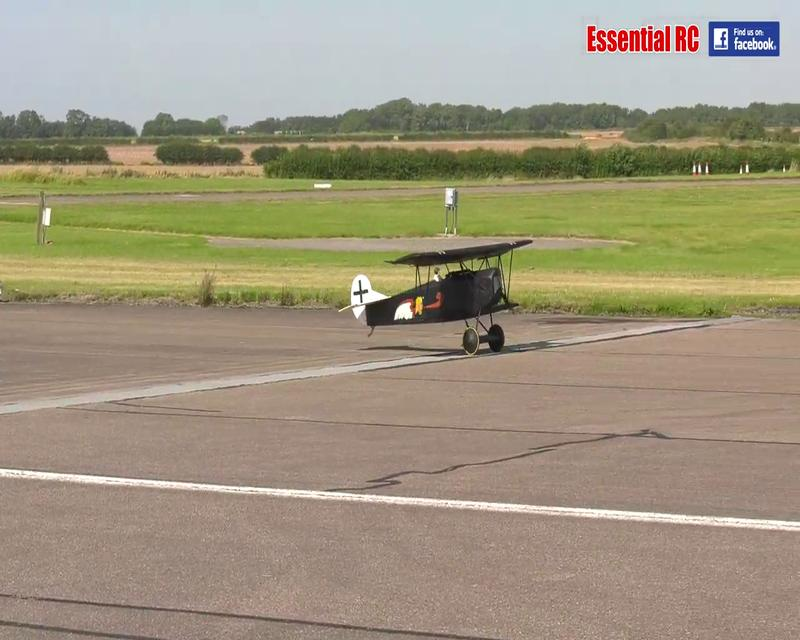UAV: (339, 238, 534, 356), (585, 23, 700, 53)
